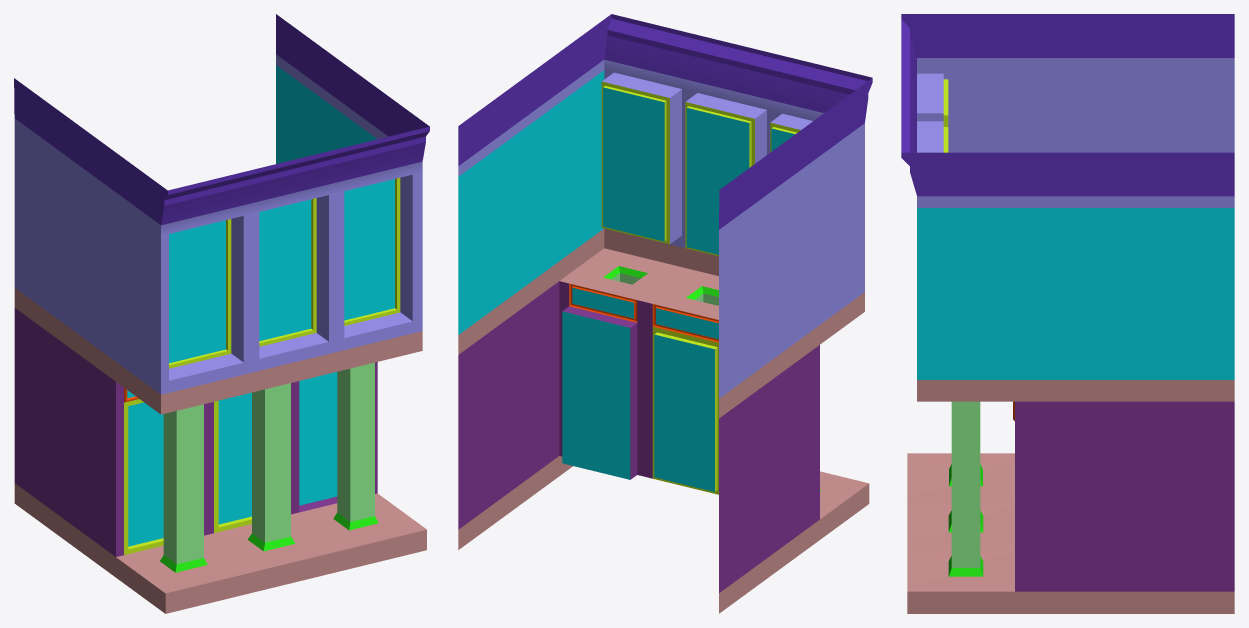
File: Building_1.FBX
3 renders of one model, left to right at view 1: azimuth 30°, elevation 25°; view 2: azimuth 150°, elevation 25°; view 3: azimuth 270°, elevation 25°, orthographic. The views are drawn at different scales.
Parts seen in each view (by area): view 1: Building_1; view 2: Building_1; view 3: Building_1.
Boxes of the visible parts, x1=… form: Building_1: x1=14, y1=14, x2=429, y2=613; Building_1: x1=458, y1=14, x2=872, y2=613; Building_1: x1=901, y1=14, x2=1234, y2=613.
Bounding box in the file's own units: 401 × 407 × 622.
